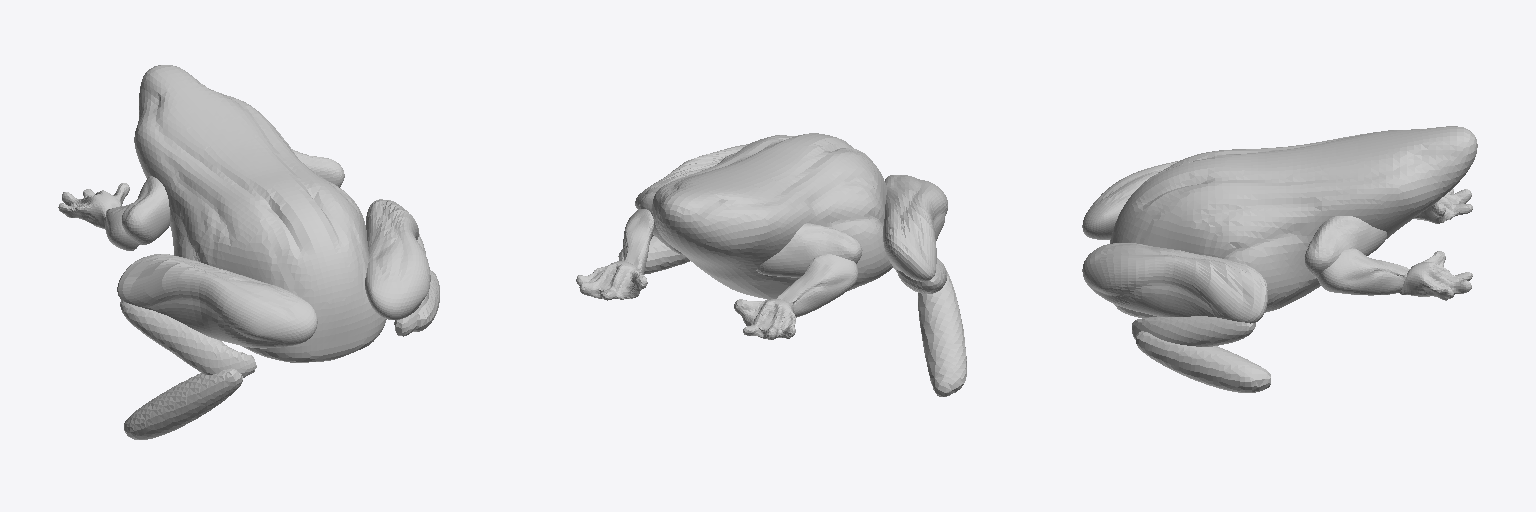
Rendered from topdownfrog.obj.
3 views of the same model, side by side, from view 1: azimuth 30°, elevation 25°; view 2: azimuth 150°, elevation 25°; view 3: azimuth 270°, elevation 25° (orthographic).
Visible parts, largest first — view 1: Sphere_Sphere.002, Cylinder_Cylinder.005, Cylinder.004_Cylinder.009, Cylinder.003_Cylinder.008, Cylinder.002_Cylinder.007, Sphere.001_Sphere.003, Cylinder.001_Cylinder.006; view 2: Sphere_Sphere.002, Cylinder_Cylinder.005, Cylinder.004_Cylinder.009, Cylinder.001_Cylinder.006, Sphere.001_Sphere.003, Cylinder.002_Cylinder.007, Cylinder.003_Cylinder.008; view 3: Sphere_Sphere.002, Cylinder_Cylinder.005, Cylinder.004_Cylinder.009, Sphere.001_Sphere.003, Cylinder.001_Cylinder.006, Cylinder.003_Cylinder.008, Cylinder.002_Cylinder.007.
Part boxes in pixels (left/top/right/bottom): Sphere_Sphere.002: left=134, top=65, right=386, bottom=362; Cylinder_Cylinder.005: left=117, top=199, right=430, bottom=348; Cylinder.004_Cylinder.009: left=124, top=270, right=439, bottom=439; Cylinder.003_Cylinder.008: left=120, top=234, right=428, bottom=377; Cylinder.002_Cylinder.007: left=122, top=149, right=344, bottom=244; Sphere.001_Sphere.003: left=58, top=183, right=129, bottom=228; Cylinder.001_Cylinder.006: left=105, top=203, right=139, bottom=250; Sphere_Sphere.002: left=652, top=133, right=892, bottom=299; Cylinder_Cylinder.005: left=635, top=144, right=947, bottom=281; Cylinder.004_Cylinder.009: left=618, top=236, right=966, bottom=396; Cylinder.001_Cylinder.006: left=623, top=209, right=857, bottom=317; Sphere.001_Sphere.003: left=576, top=261, right=795, bottom=339; Cylinder.002_Cylinder.007: left=639, top=188, right=862, bottom=277; Cylinder.003_Cylinder.008: left=897, top=258, right=946, bottom=293; Sphere_Sphere.002: left=1110, top=126, right=1477, bottom=317; Cylinder_Cylinder.005: left=1082, top=161, right=1267, bottom=323; Cylinder.004_Cylinder.009: left=1136, top=331, right=1270, bottom=392; Sphere.001_Sphere.003: left=1399, top=189, right=1472, bottom=300; Cylinder.001_Cylinder.006: left=1318, top=248, right=1409, bottom=295; Cylinder.003_Cylinder.008: left=1132, top=316, right=1255, bottom=346; Cylinder.002_Cylinder.007: left=1305, top=216, right=1386, bottom=278.
Bounding box in the file's own units: 1.3 × 0.9491 × 1.37.